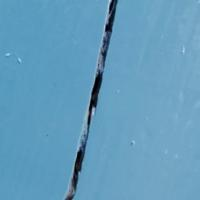crack: (69, 4, 142, 199)
